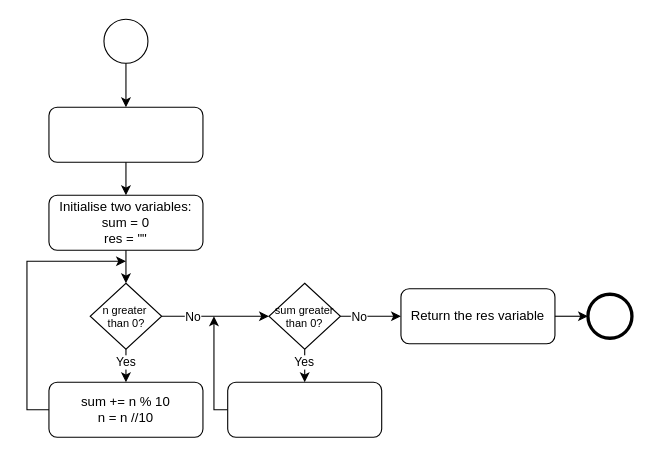
Image size: 652x457. Some labels were removed from this diagram. The shapes that lost their labels are listed below. From the top down, each one's centre as x and y in pixels, then its label:
At [125,134]: "Receive an integer number n".
At [304,409]: "r = sum % 2 sum //= 10 res += str(r)".
